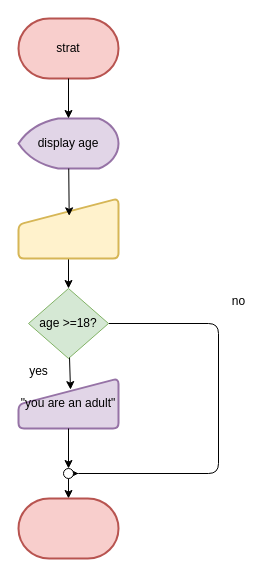
Some shapes in this 275 by 576 pixel diagram are drawn without their labels. The centre of each missing label's shape, as x and y in pixels:
"input age" goes at [68,228].
"stop" goes at [68,528].
